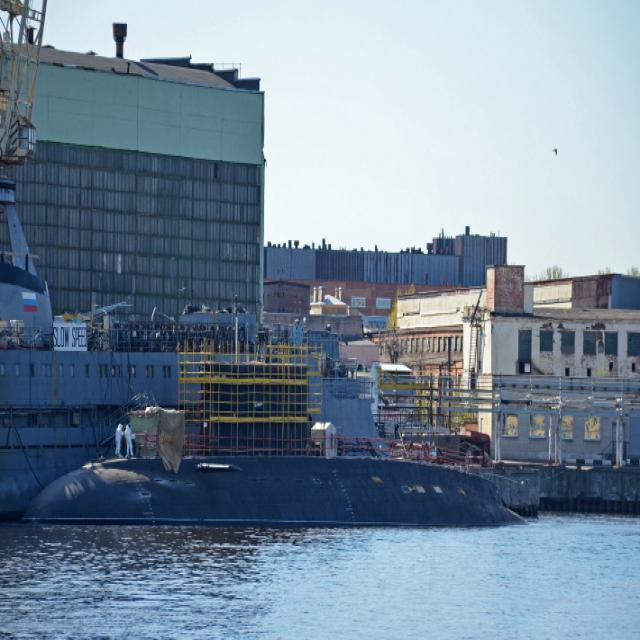submarine: (20, 339, 563, 522)
